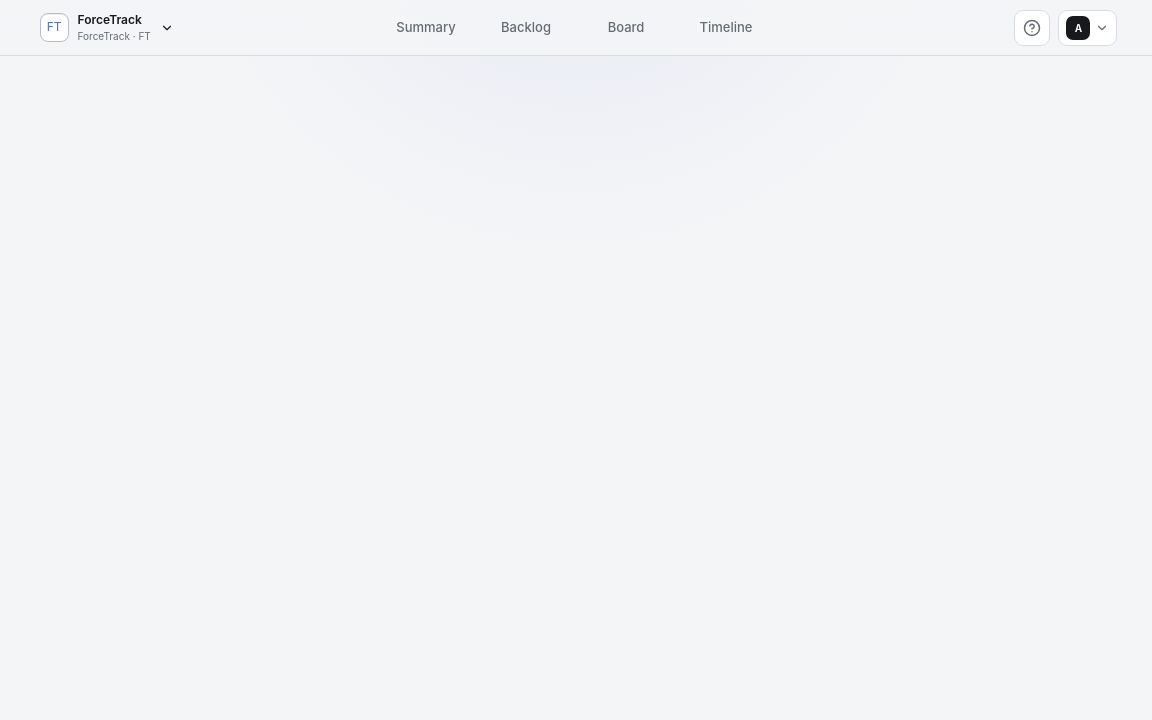
Test: Backlog planning › keeps member input and identifies a duplicate email at the field
The width and height of the screenshot is (1152, 720).
Click the button with aria-label "Switch project".
click(108, 28)  # box [34,6,182,50]
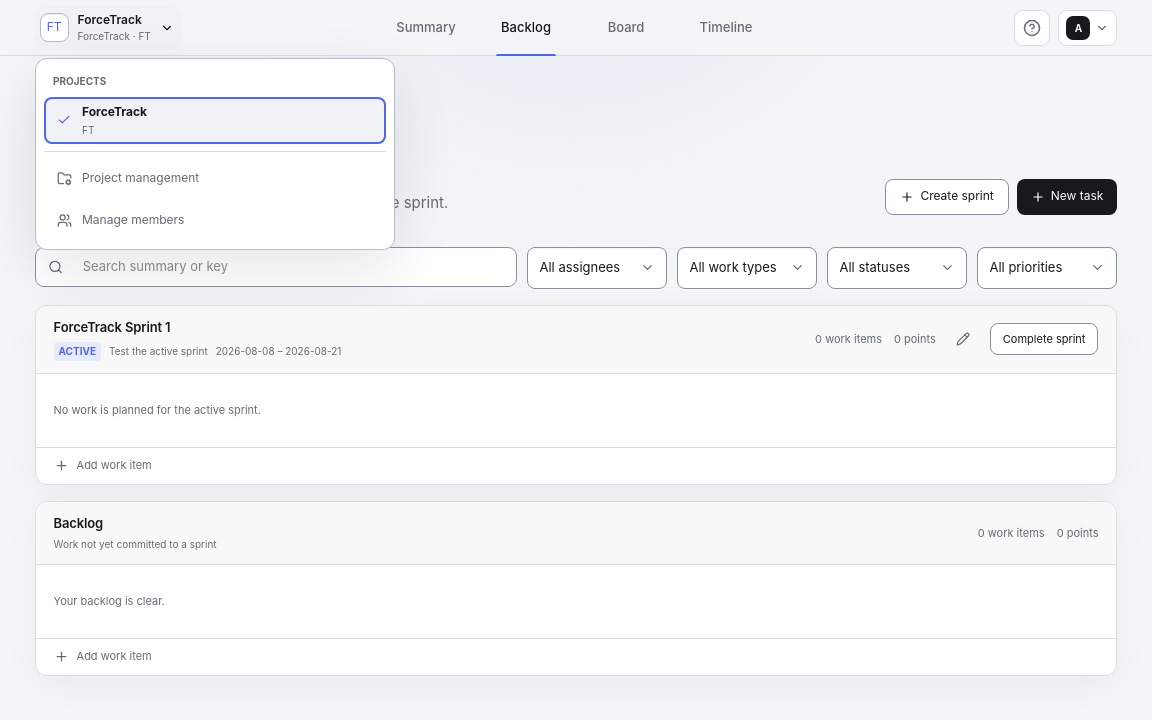
Click the button "Manage members".
click(133, 220)  # box [44,201,386,241]
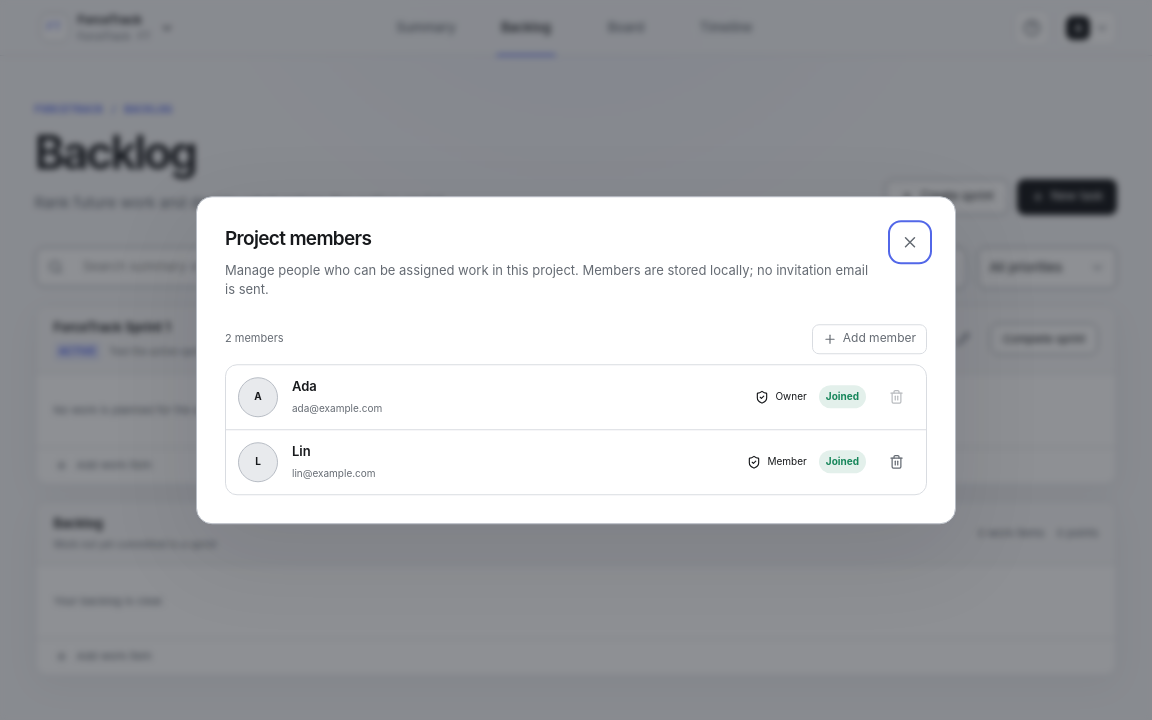
Click the button "Add member".
click(869, 339)  # box [812,324,927,354]
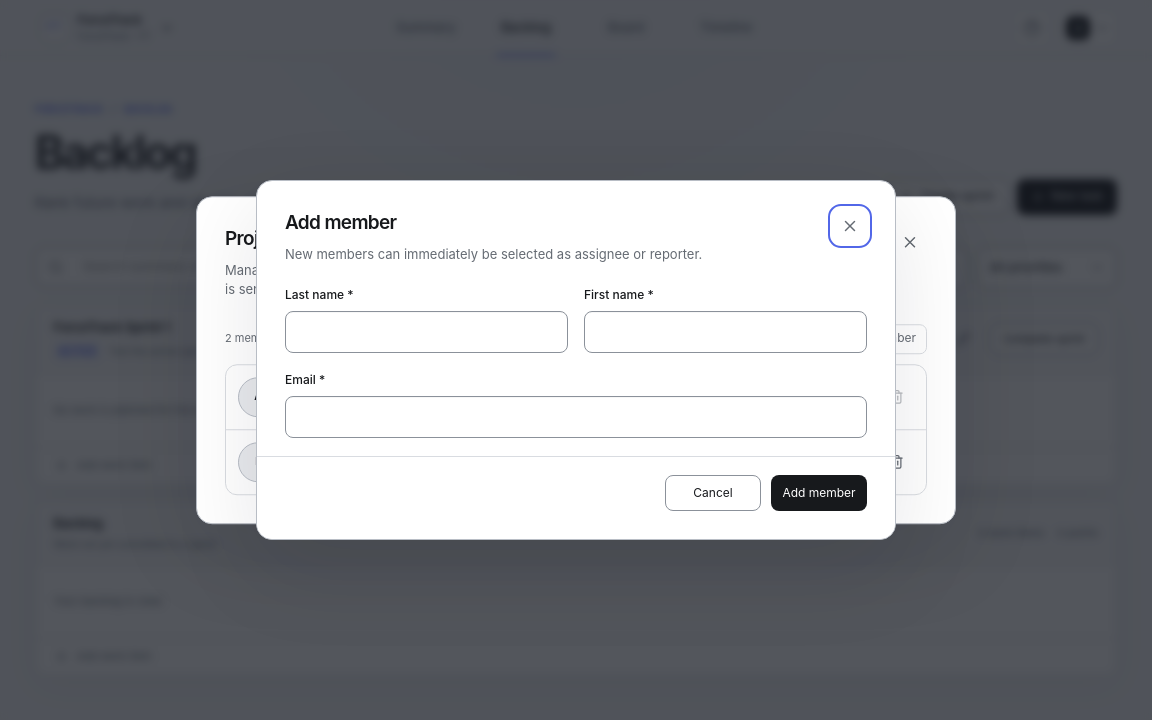
Type "Ada" into the field labelled "Last name *".
click(426, 332); type("Ada")  # box [285,311,568,353]
Type "Another" into the field labelled "First name *".
click(726, 332); type("Another")  # box [584,311,867,353]
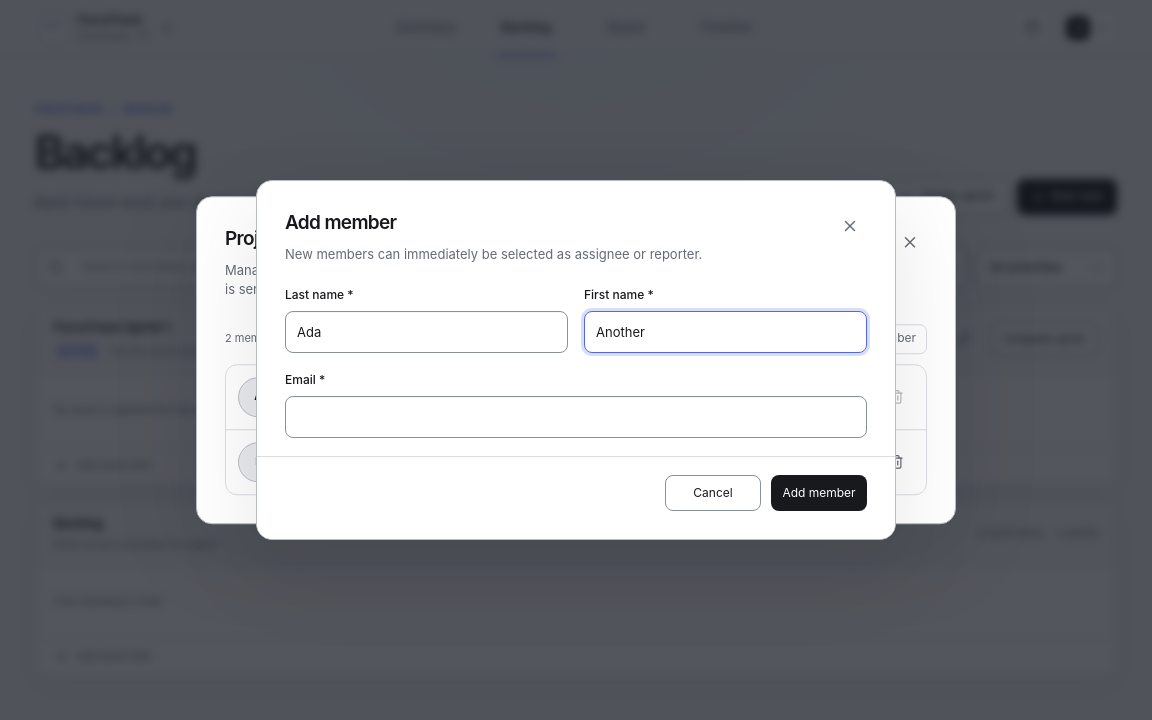
Type " ADA@EXAMPLE.COM " into the field labelled "Email *".
click(576, 417); type(" ADA@EXAMPLE.COM ")  # box [285,396,867,438]
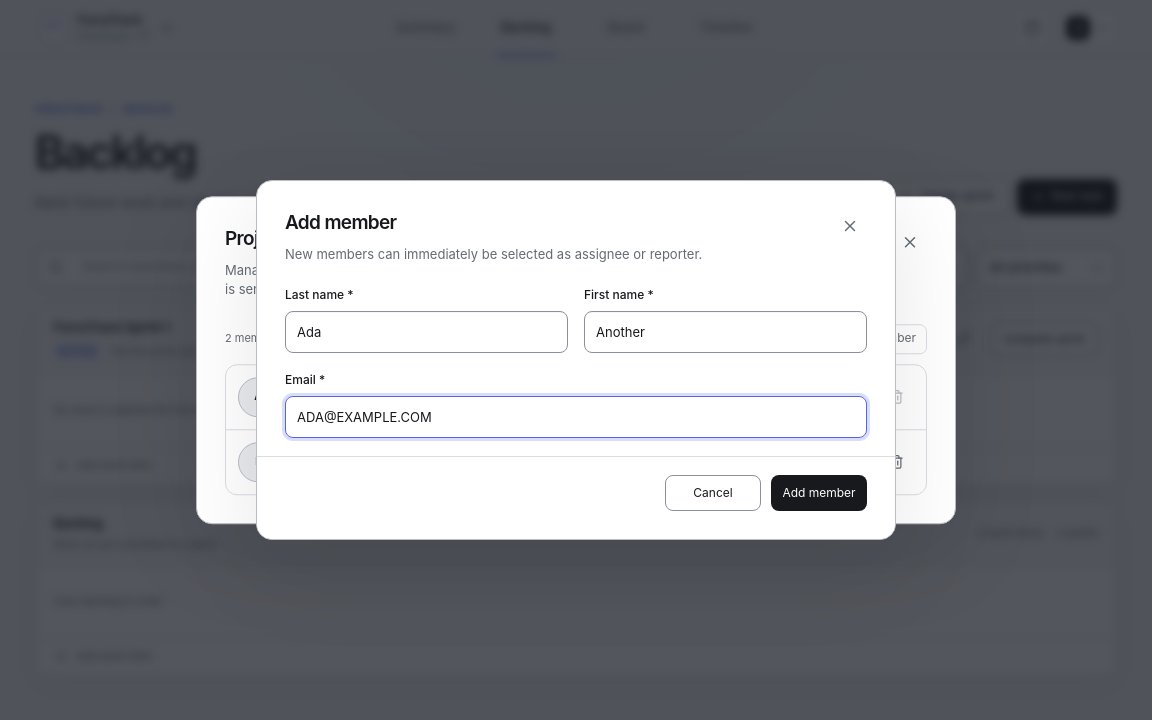
Click the button "Add member".
click(819, 493)  # box [771,475,867,511]
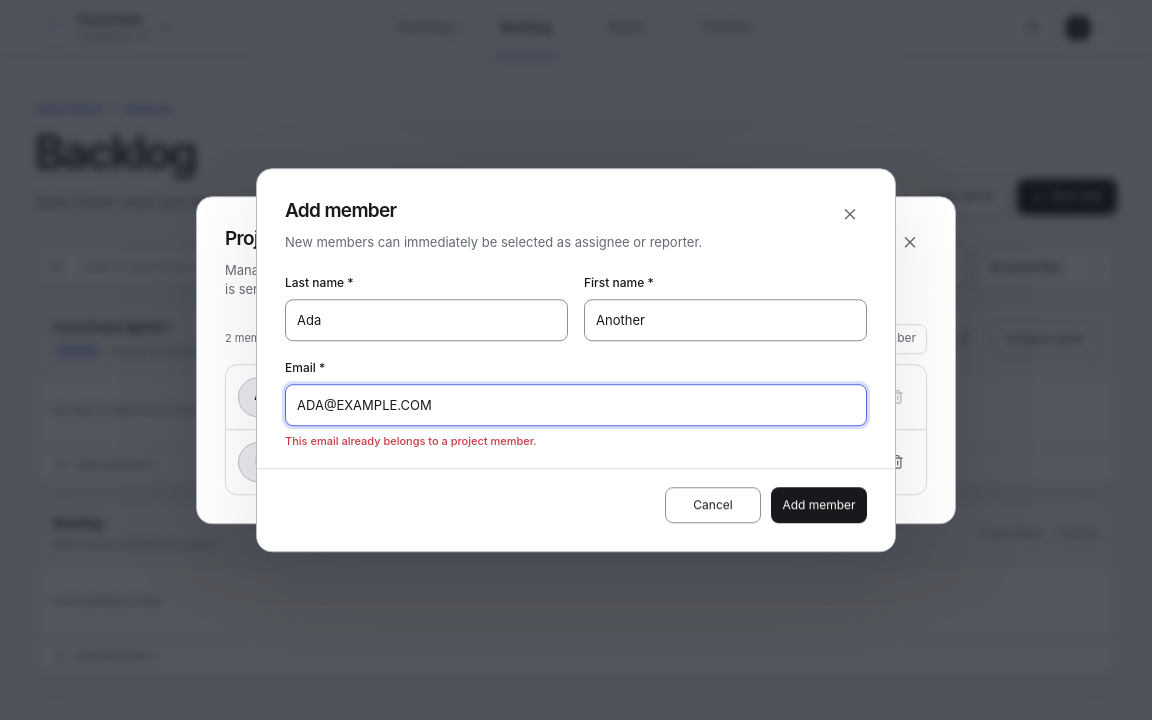
Check: the text "This email already belongs to a project member." is shown, box [285,434,537,448]
